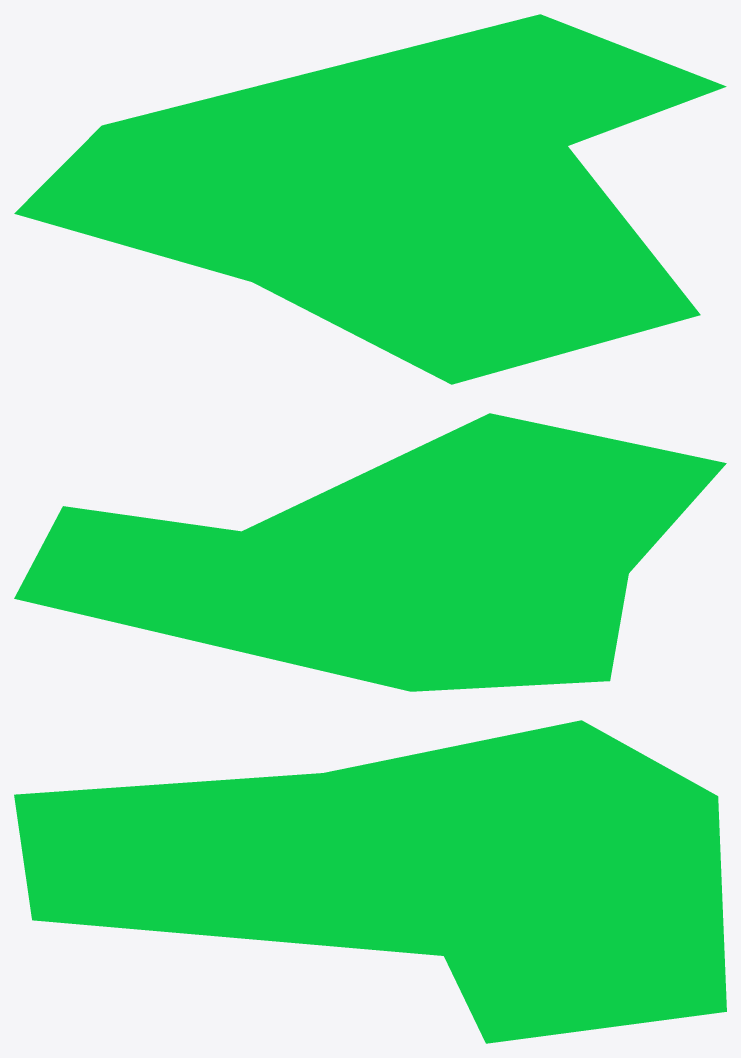
Rendered from Burgundy.glb.
3 views of the same model, one above another, from view 1: azimuth 30°, elevation 25°; view 2: azimuth 150°, elevation 25°; view 3: azimuth 270°, elevation 25° (orthographic). The views are drawn at different scales.
Visible parts, largest first — view 1: Burgundy; view 2: Burgundy; view 3: Burgundy.
Boxes of the visible parts, <box> form: Burgundy: <box>14,14,726,384</box>; Burgundy: <box>14,413,726,691</box>; Burgundy: <box>14,720,726,1043</box>.
Bounding box in the file's own units: 4.11 × 0 × 3.83.
